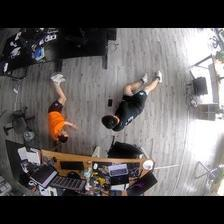fall: (102, 70, 162, 132), (47, 71, 80, 144)
